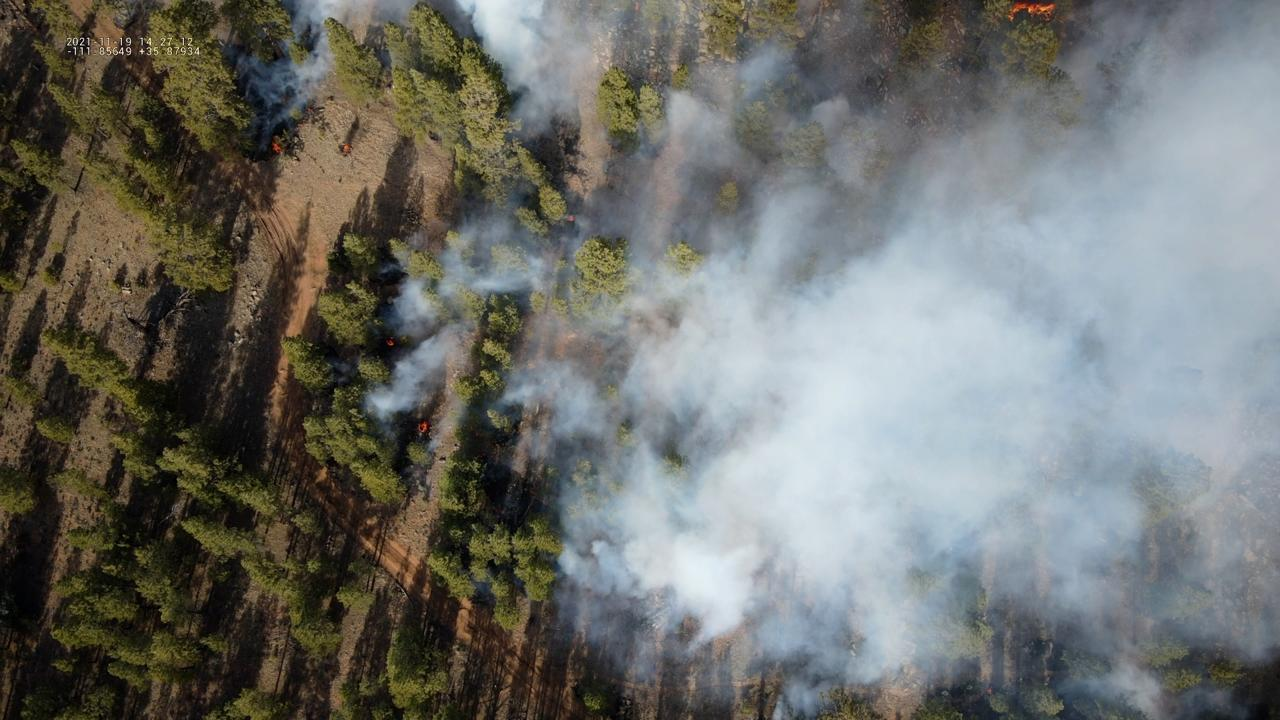fire: (417, 419, 430, 434), (273, 142, 283, 156), (341, 143, 351, 155), (385, 337, 395, 347), (566, 213, 576, 222), (985, 687, 994, 696)
smoke: (351, 0, 1280, 720), (219, 0, 351, 153), (323, 354, 362, 386)
